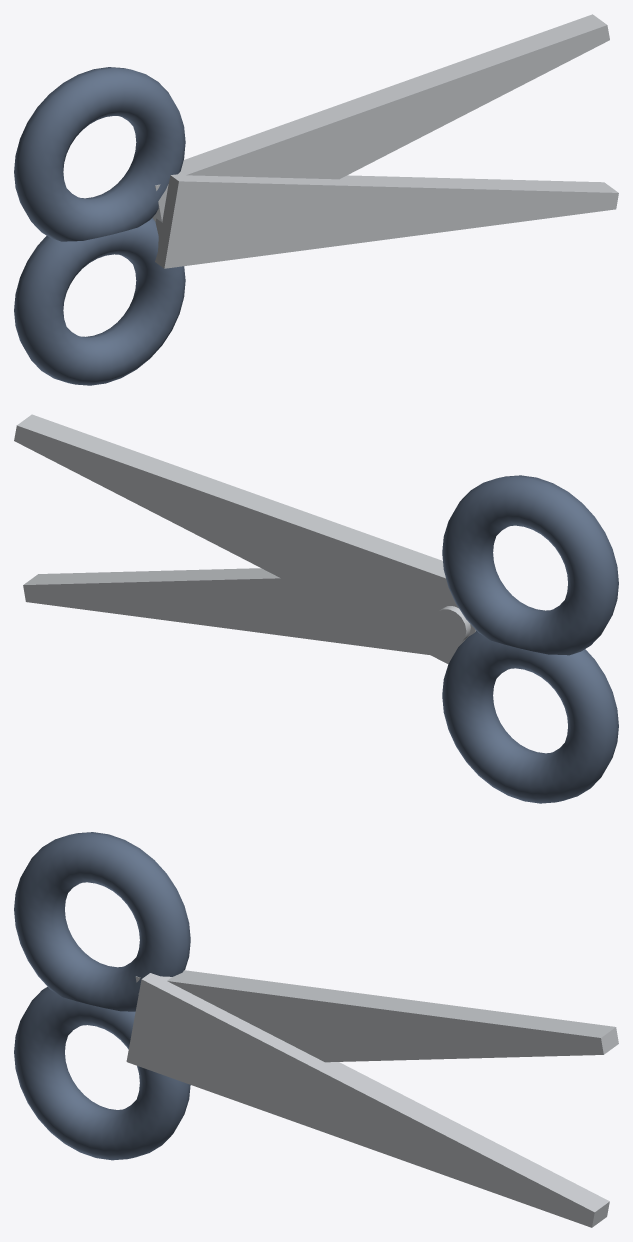
Rendered from scissors.obj.
3 views of the same model, one above another, from view 1: azimuth 30°, elevation 25°; view 2: azimuth 150°, elevation 25°; view 3: azimuth 330°, elevation 25° (orthographic). The views are drawn at different scales.
Visible parts, largest first — view 1: scissors_0_465, scissors_0_0, scissors_1_501, scissors_1_36; view 2: scissors_0_0, scissors_1_501, scissors_1_36, scissors_0_465, scissors_0_930; view 3: scissors_0_465, scissors_0_0, scissors_1_501, scissors_1_36.
Boxes of the visible parts, bbox=[...] form: scissors_0_465: bbox=[155, 171, 618, 268]; scissors_0_0: bbox=[152, 14, 609, 222]; scissors_1_501: bbox=[14, 67, 185, 241]; scissors_1_36: bbox=[14, 218, 185, 385]; scissors_0_0: bbox=[14, 414, 476, 663]; scissors_1_501: bbox=[442, 475, 618, 655]; scissors_1_36: bbox=[442, 631, 618, 803]; scissors_0_465: bbox=[23, 568, 429, 654]; scissors_0_930: bbox=[433, 606, 470, 644]; scissors_0_465: bbox=[126, 973, 609, 1227]; scissors_0_0: bbox=[135, 970, 618, 1062]; scissors_1_501: bbox=[14, 832, 190, 1011]; scissors_1_36: bbox=[14, 986, 190, 1160].
Bounding box in the file's own units: 0.1141 × 0.0584 × 0.0112.
